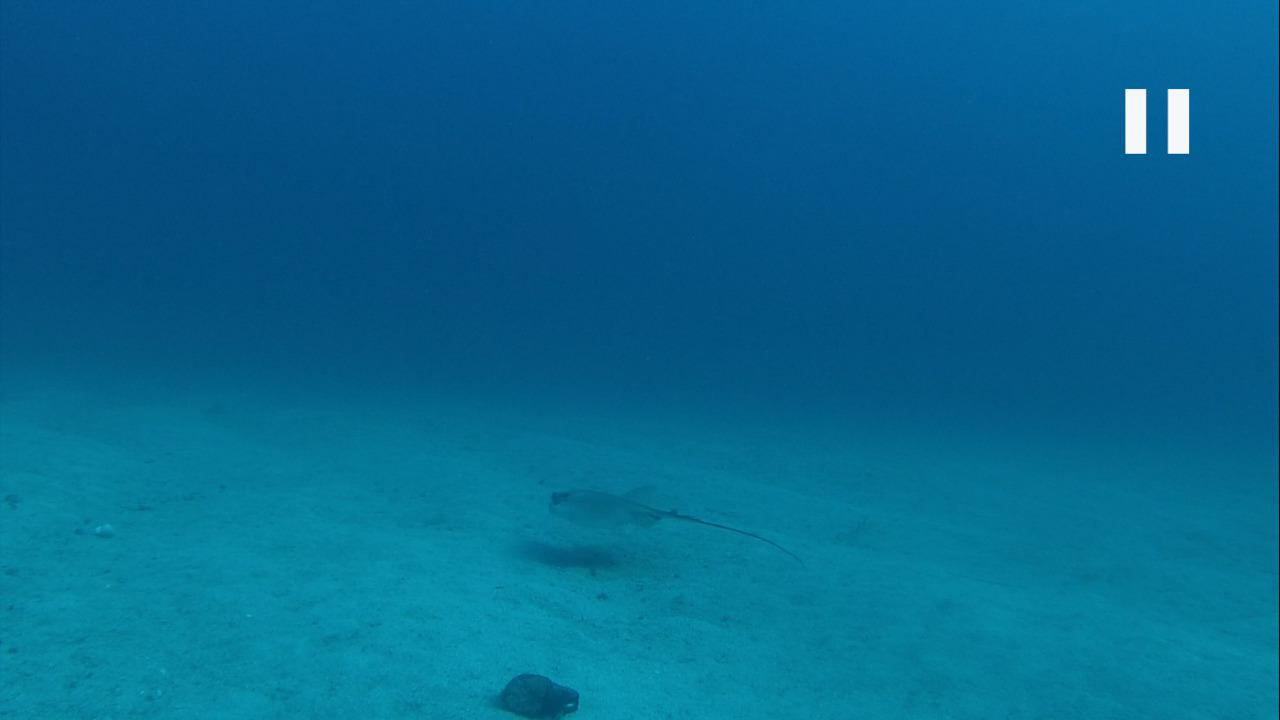myliobatis: (526, 475, 803, 565)
